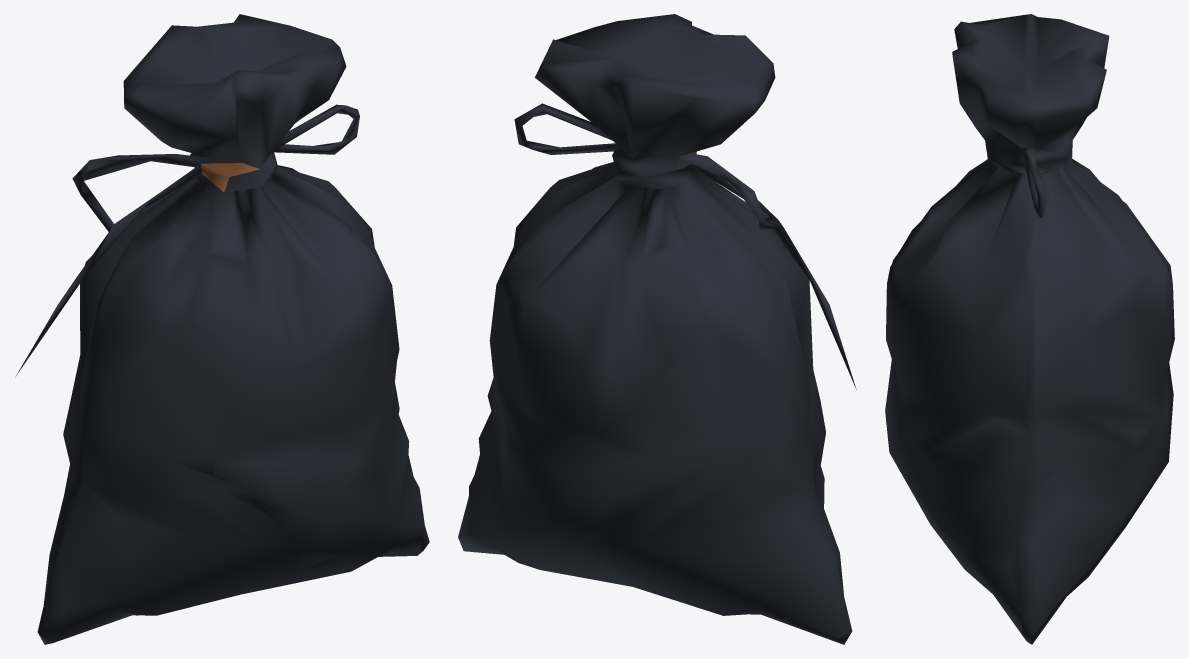
Rendered from SM_prop_trash_bag.glb.
The picture shows the model from 3 angles, left to right: view 1: azimuth 30°, elevation 25°; view 2: azimuth 150°, elevation 25°; view 3: azimuth 270°, elevation 25°; orthographic projection. The views are drawn at different scales.
Visible parts, largest first — view 1: SM_prop_trash_bag; view 2: SM_prop_trash_bag; view 3: SM_prop_trash_bag.
Part boxes in pixels (<box>): SM_prop_trash_bag: <box>15,14,429,644</box>; SM_prop_trash_bag: <box>458,14,856,644</box>; SM_prop_trash_bag: <box>885,14,1174,644</box>.
Size of the model in its own units: 0.3854 by 0.5 by 0.2545.
Materials: 1 (1 with a texture image).
